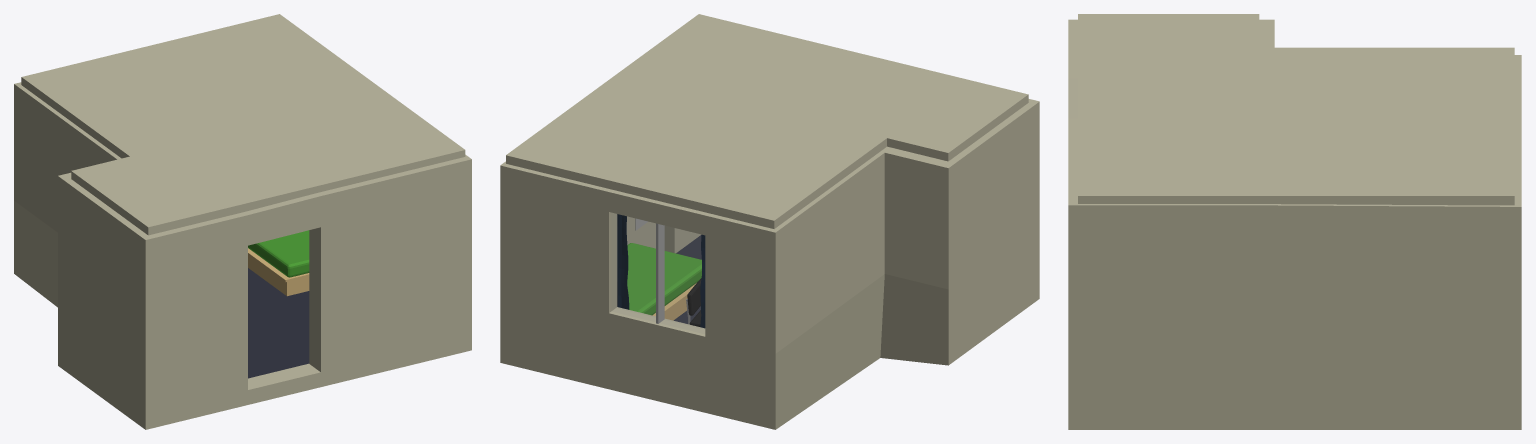
Rendered from room.gltf.
3 renders of one model, left to right at view 1: azimuth 30°, elevation 25°; view 2: azimuth 150°, elevation 25°; view 3: azimuth 270°, elevation 25°, orthographic. The views are drawn at different scales.
Parts seen in each view (by area): view 1: Room, Floor.001, Floor, Mattress, Bed Bottom; view 2: Room, Floor.001, Cube.002, Mattress, Curtains, Cube.003, Floor; view 3: Room, Floor.001.
Boxes of the visible parts, <box> form: Room: <box>14,82,471,429</box>; Floor.001: <box>21,14,465,235</box>; Floor: <box>248,268,309,378</box>; Mattress: <box>248,230,309,277</box>; Bed Bottom: <box>248,248,309,296</box>; Room: <box>500,99,1039,429</box>; Floor.001: <box>506,14,1028,228</box>; Cube.002: <box>616,214,704,328</box>; Mattress: <box>627,243,701,315</box>; Curtains: <box>617,214,705,328</box>; Cube.003: <box>656,223,664,323</box>; Floor: <box>673,235,701,323</box>; Room: <box>1068,19,1521,429</box>; Floor.001: <box>1078,14,1514,205</box>.
Bounding box in the file's own units: 7.75 × 4.76 × 7.94.
